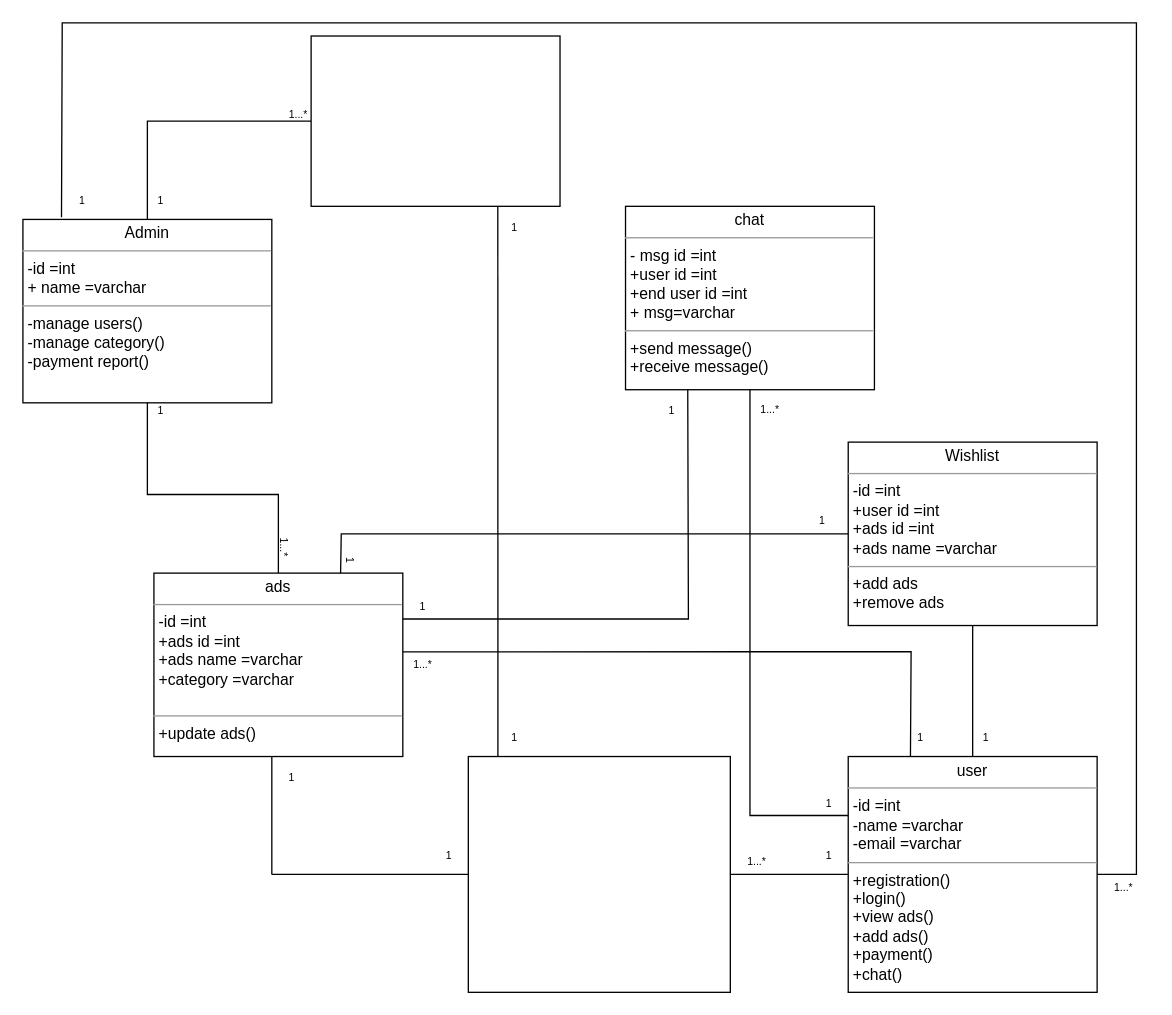
Some shapes in this 1172 by 1015 pixel diagram are drawn without their labels. The box of each missing label's shape, as (x1, y1, x2, y2) in pixels:
payment -id =int +t id =int +date =date +price =int +payment details(): (467, 755, 730, 992)
payment report -id =int +t id =int +date =date +price =int +create report: (310, 35, 560, 206)
